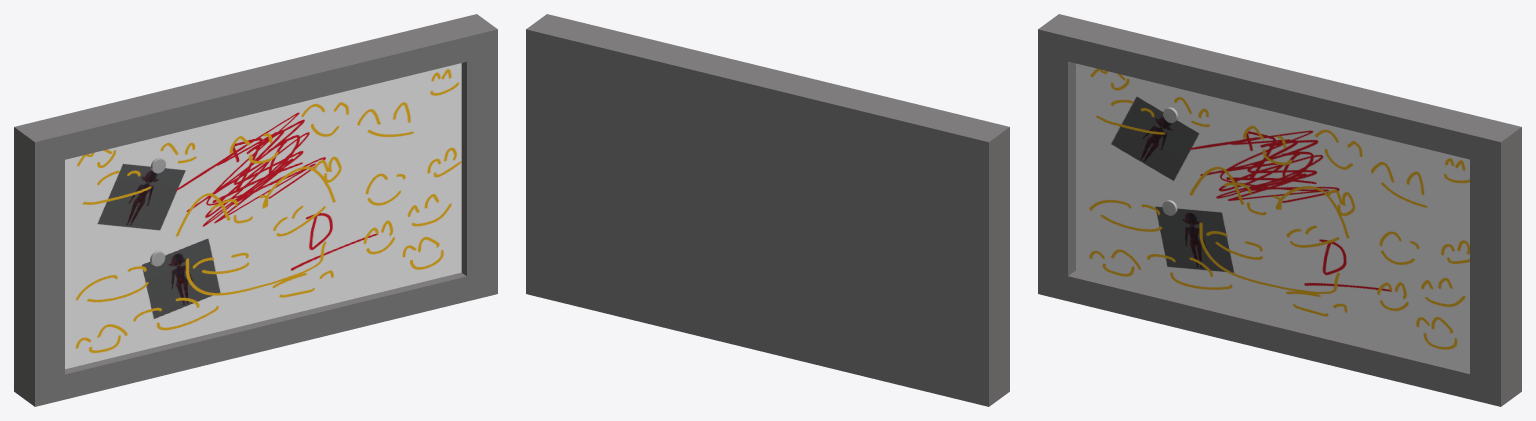
Rendered from boad3.fbx.
3 views of the same model, side by side, from view 1: azimuth 30°, elevation 25°; view 2: azimuth 150°, elevation 25°; view 3: azimuth 330°, elevation 25° (orthographic).
Parts seen in each view (by area): view 1: 平面, Cube; view 2: Cube; view 3: 平面, Cube.
Part boxes in pixels (x1=…): 平面: x1=65, y1=63, x2=461, y2=369; Cube: x1=14, y1=14, x2=497, y2=406; Cube: x1=526, y1=14, x2=1009, y2=406; 平面: x1=1076, y1=63, x2=1469, y2=368; Cube: x1=1038, y1=14, x2=1521, y2=406.
Bounding box in the file's own units: 366 × 200 × 28.72.
4 materials, 1 textured.
